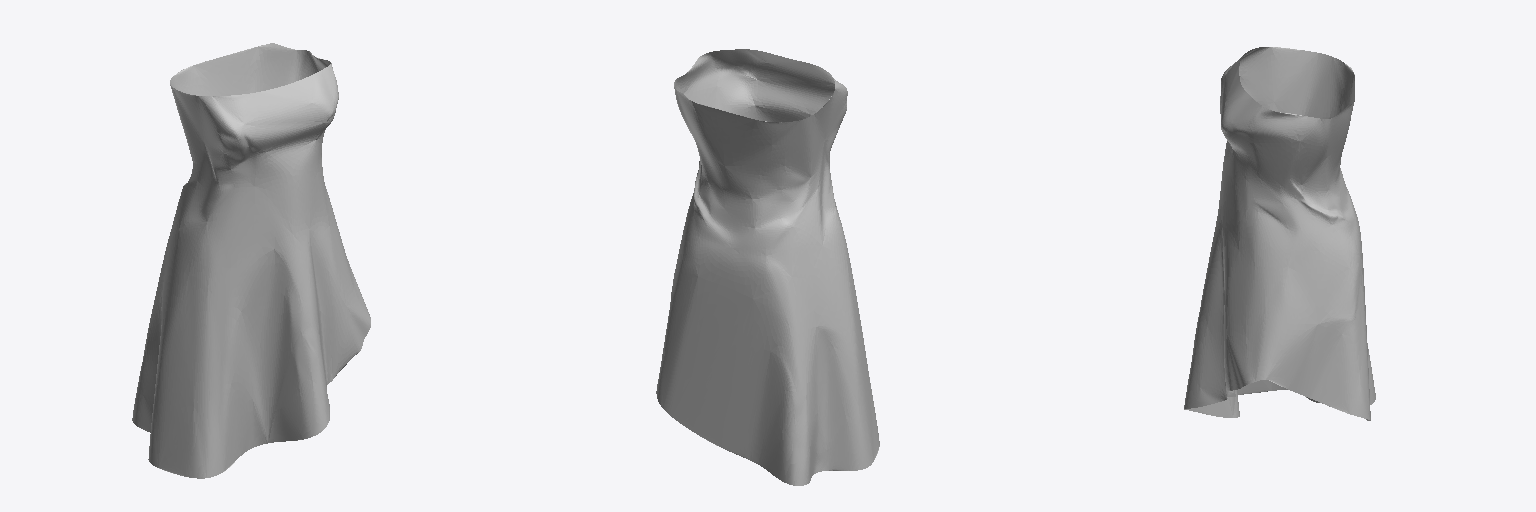
The model's file is dse.obj.
3 views of the same model, side by side, from view 1: azimuth 30°, elevation 25°; view 2: azimuth 150°, elevation 25°; view 3: azimuth 270°, elevation 25° (orthographic).
Visible parts, largest first — view 1: Cloth_Shape; view 2: Cloth_Shape; view 3: Cloth_Shape.
Part boxes in pixels (x1,y1,x2,y2): Cloth_Shape: (132, 43, 370, 478); Cloth_Shape: (656, 49, 879, 485); Cloth_Shape: (1184, 47, 1375, 420).
Bounding box in the file's own units: 4.97 × 8.52 × 4.03.